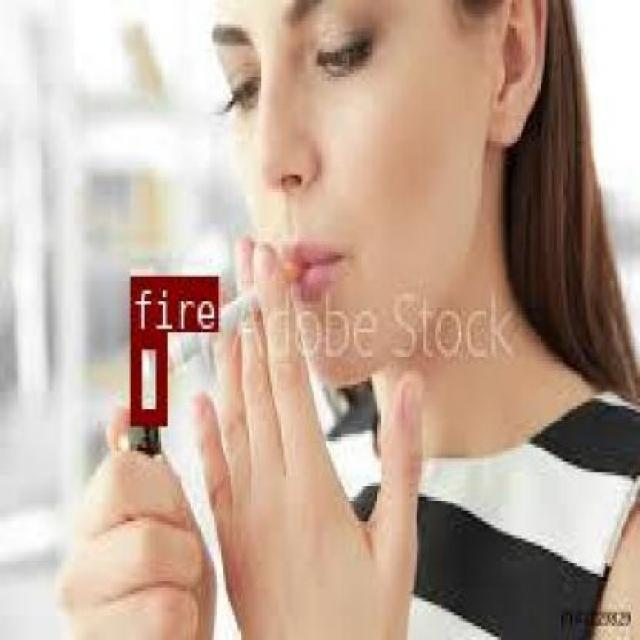fire: (128, 331, 164, 422)
